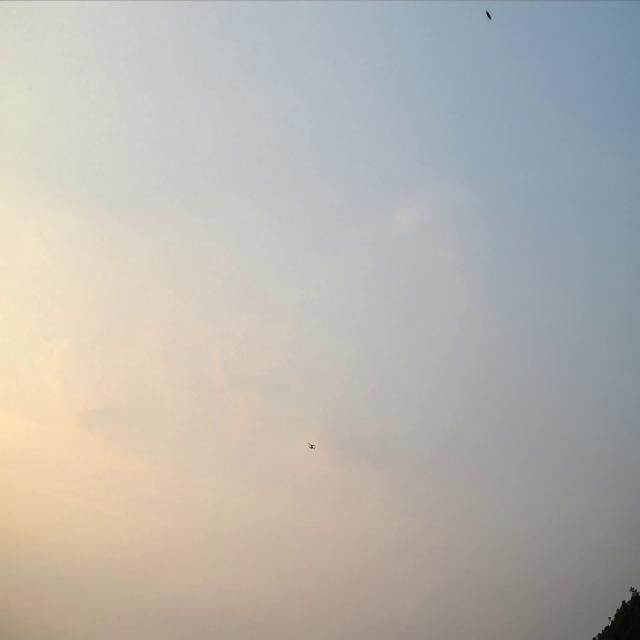drone: (308, 440, 316, 450)
